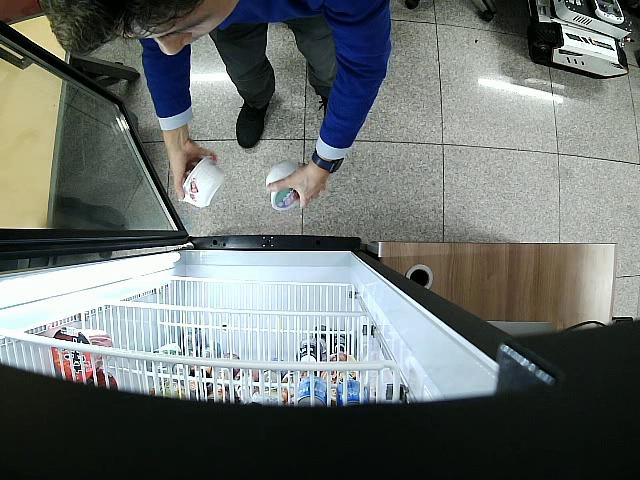00_hand: (169, 131, 218, 201), (265, 161, 326, 209)
09_yukGaeJang: (183, 156, 225, 209), (266, 161, 307, 207)
